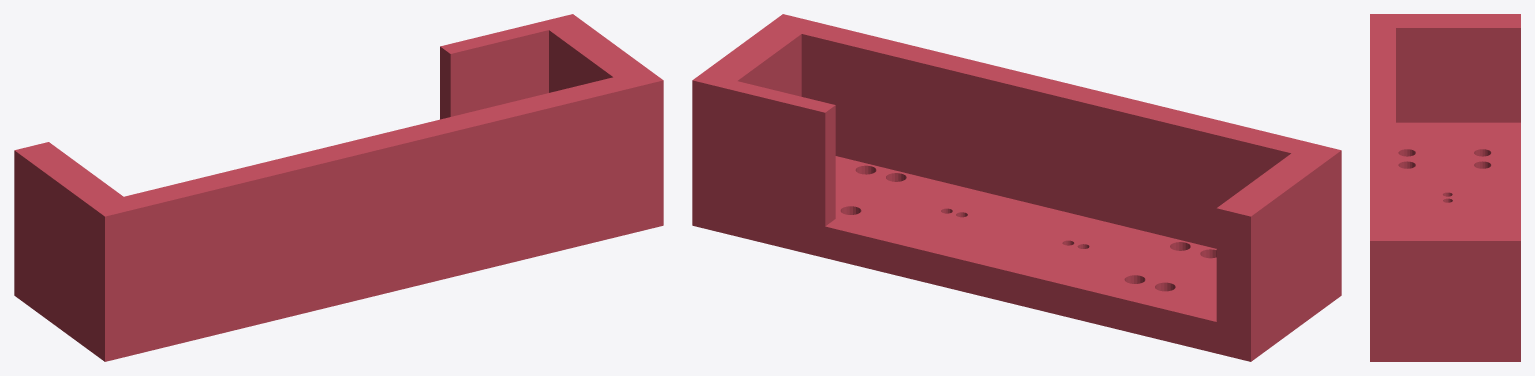
File: RadiOpi Aufbau Make.glb
3 views of the same model, side by side, from view 1: azimuth 30°, elevation 25°; view 2: azimuth 150°, elevation 25°; view 3: azimuth 270°, elevation 25° (orthographic). The views are drawn at different scales.
Parts seen in each view (by area): view 1: Mesh_Mesh_head_geo.001_lambert2SG.001; view 2: Mesh_Mesh_head_geo.001_lambert2SG.001; view 3: Mesh_Mesh_head_geo.001_lambert2SG.001.
Boxes of the visible parts, box(x1,y1,x2,y2) form: Mesh_Mesh_head_geo.001_lambert2SG.001: box(14, 14, 663, 361); Mesh_Mesh_head_geo.001_lambert2SG.001: box(692, 14, 1341, 361); Mesh_Mesh_head_geo.001_lambert2SG.001: box(1370, 14, 1520, 361).
Size of the model in its own units: 92.5 by 23 by 26.
